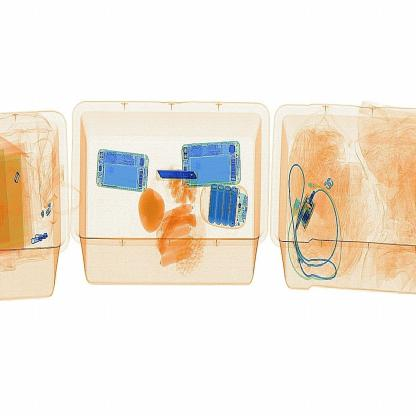pliers: (152, 159, 202, 191)
